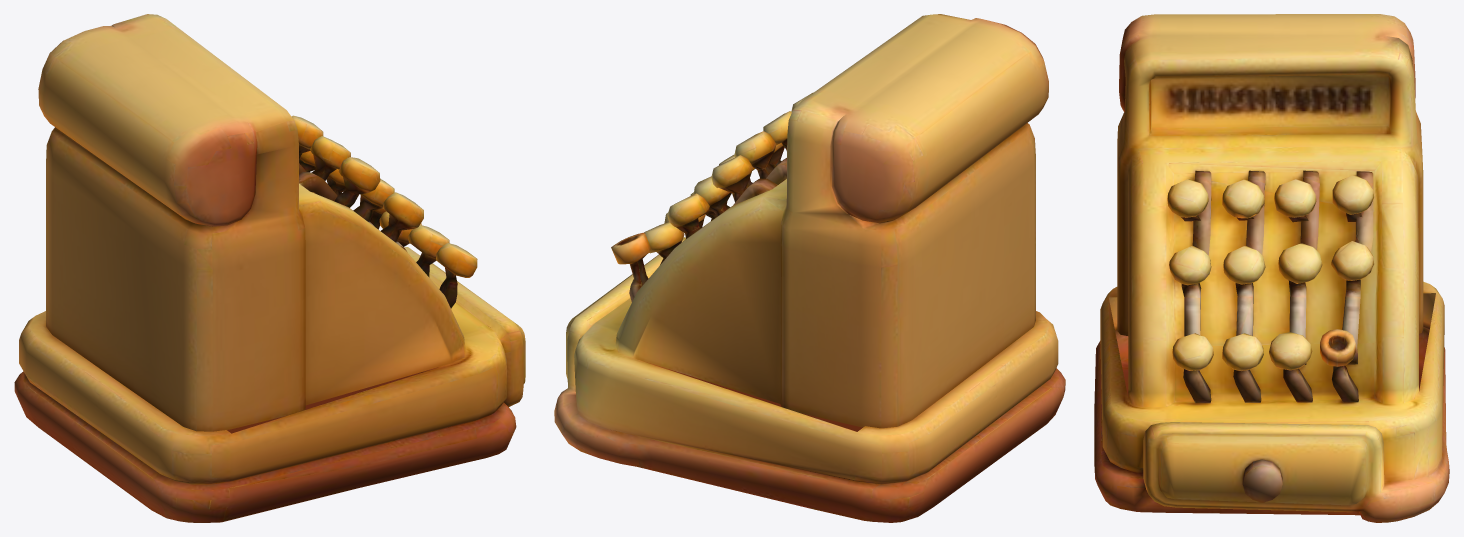
File: desk-bm.glb
3 views of the same model, side by side, from view 1: azimuth 30°, elevation 25°; view 2: azimuth 150°, elevation 25°; view 3: azimuth 270°, elevation 25° (orthographic). The views are drawn at different scales.
Parts seen in each view (by area): view 1: tripo_node_d3c88818-83e2-4e6c-98e1-1d221b2c71c0; view 2: tripo_node_d3c88818-83e2-4e6c-98e1-1d221b2c71c0; view 3: tripo_node_d3c88818-83e2-4e6c-98e1-1d221b2c71c0.
Boxes of the visible parts, x1,y1,x2,y2 form: tripo_node_d3c88818-83e2-4e6c-98e1-1d221b2c71c0: [14, 14, 525, 522]; tripo_node_d3c88818-83e2-4e6c-98e1-1d221b2c71c0: [554, 14, 1065, 522]; tripo_node_d3c88818-83e2-4e6c-98e1-1d221b2c71c0: [1094, 14, 1449, 522].
Bounding box in the file's own units: 0.998 × 0.9238 × 0.8184.
1 material, 1 textured.
